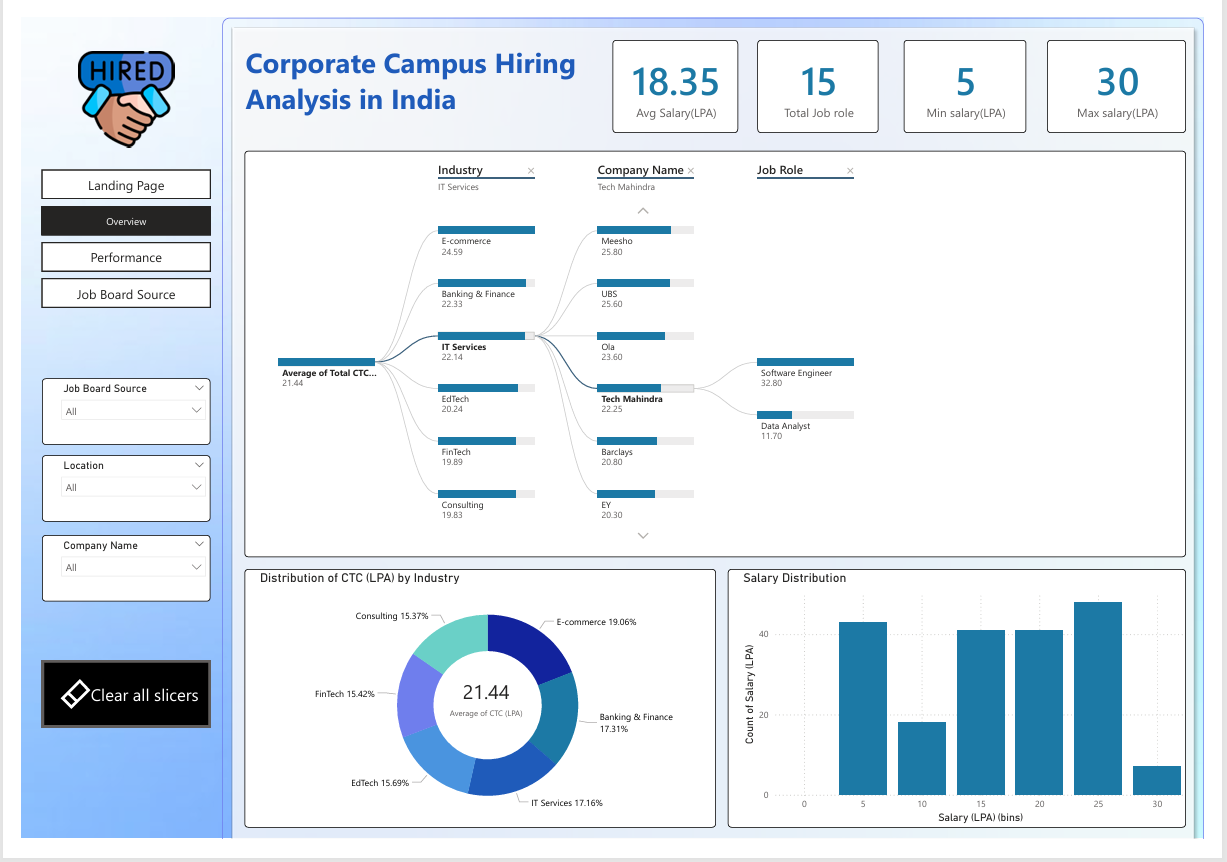

What the dashboard file says about the page in this screenshot:
{"tool":"powerbi","page":{"name":"Overview","canvas":[1600,1111],"ordinal":2},"visuals":[{"type":"shape","box":[272,0,1328,1400],"z":0},{"type":"decompositionTreeVisual","fields":{"ExplainBy":["Sheet1.Industry","Sheet1.Company Name","Sheet1.Job Role"],"Analyze":["Avg(Sheet1.Total CTC (LPA))"]},"box":[302,180,1274,550],"z":1000},{"type":"donutChart","title":"Distribution of CTC (LPA) by Industry","fields":{"Category":["Sheet1.Industry"],"Y":["Avg(Sheet1.Total CTC (LPA))"]},"box":[302,746,638,350],"z":2000},{"type":"card","fields":{"Values":["Avg(Sheet1.Total CTC (LPA))"]},"box":[566,880,126,80],"z":3000},{"type":"columnChart","title":"Salary Distribution","fields":{"Category":["Sheet1.Salary (LPA) (bins)"],"Y":["CountNonNull(Sheet1.Salary (LPA))"]},"box":[956,746,620,350],"z":4000},{"type":"card","fields":{"Values":["Measure_table.Avg_salary"]},"box":[800,30,170,126],"z":5000},{"type":"card","fields":{"Values":["Measure_table.Count_job_role"]},"box":[996,30,164,126],"z":6000},{"type":"card","fields":{"Values":["Measure_table.Min_salary"]},"box":[1194,30,166,126],"z":7000},{"type":"card","fields":{"Values":["Measure_table.Max_salary"]},"box":[1388,30,188,126],"z":8000},{"type":"textbox","box":[288,30,498,126],"z":9000},{"type":"image","box":[28,40,228,140],"z":10000},{"type":"pageNavigator","box":[28,206,228,186],"z":11000},{"type":"slicer","fields":{"Values":["Sheet1.Job Board Source"]},"box":[28,488,228,90],"z":12000},{"type":"slicer","fields":{"Values":["Sheet1.Location"]},"box":[28,592,228,90],"z":13000},{"type":"slicer","fields":{"Values":["Sheet1.Company Name"]},"box":[28,700,228,90],"z":14000},{"type":"actionButton","box":[28,870,228,90],"z":15000}]}

Visuals, with their boxes in screenshot pixels (x1, y1, x2, y2), scaled from the page's 1600x1111 canvas onto the 1227x862 screenshot:
shape: Rect(209, 0, 1226, 861)
decompositionTreeVisual - Sheet1.Industry x Sheet1.Company Name: Rect(232, 140, 1209, 566)
"Distribution of CTC (LPA) by Industry" donutChart: Rect(232, 579, 721, 850)
card - Avg(Sheet1.Total CTC (LPA)): Rect(434, 683, 531, 745)
"Salary Distribution" columnChart: Rect(733, 579, 1209, 850)
card - Measure_table.Avg_salary: Rect(614, 23, 744, 121)
card - Measure_table.Count_job_role: Rect(764, 23, 890, 121)
card - Measure_table.Min_salary: Rect(916, 23, 1043, 121)
card - Measure_table.Max_salary: Rect(1064, 23, 1209, 121)
textbox: Rect(221, 23, 603, 121)
image: Rect(21, 31, 196, 140)
pageNavigator: Rect(21, 160, 196, 304)
slicer - Sheet1.Job Board Source: Rect(21, 379, 196, 448)
slicer - Sheet1.Location: Rect(21, 459, 196, 529)
slicer - Sheet1.Company Name: Rect(21, 543, 196, 613)
actionButton: Rect(21, 675, 196, 745)
